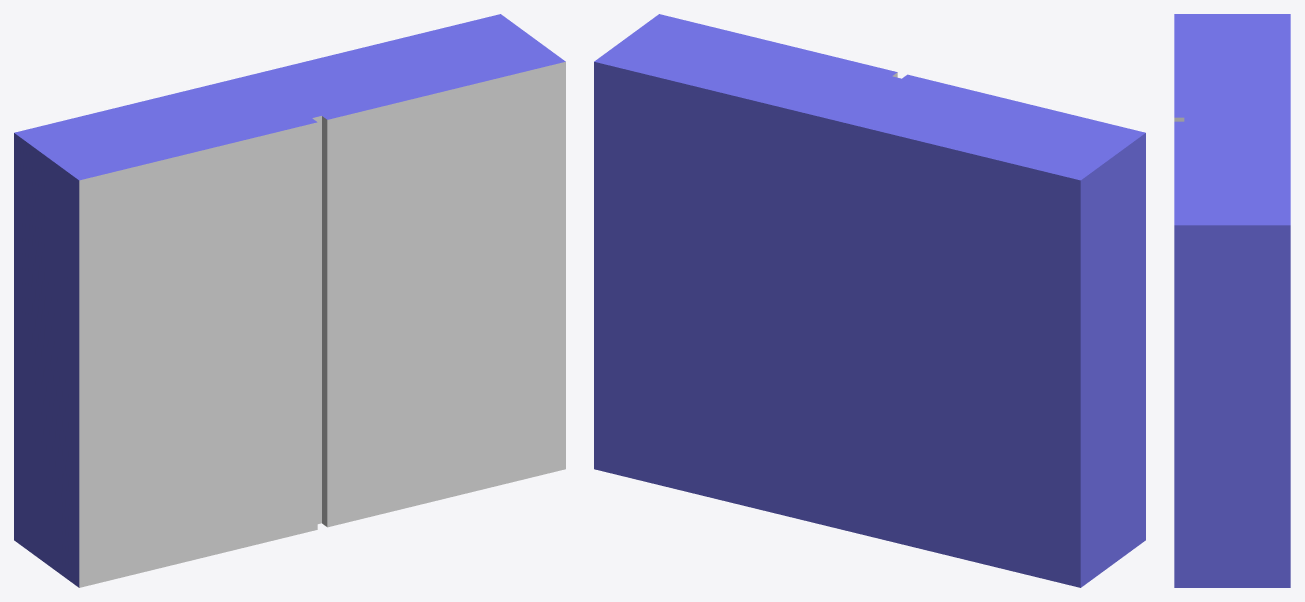
The model's file is elec.armoire.9'.glb.
3 views of the same model, side by side, from view 1: azimuth 30°, elevation 25°; view 2: azimuth 150°, elevation 25°; view 3: azimuth 270°, elevation 25° (orthographic). The views are drawn at different scales.
Parts seen in each view (by area): view 1: imagetostl_mesh1, imagetostl_mesh6, imagetostl_mesh4, imagetostl_mesh3, imagetostl_mesh9, imagetostl_mesh7; view 2: imagetostl_mesh2, imagetostl_mesh4, imagetostl_mesh3; view 3: imagetostl_mesh0, imagetostl_mesh4.
Part boxes in pixels (x1,y1,x2,y2): imagetostl_mesh1: (327,62,565,527); imagetostl_mesh6: (79,122,317,587); imagetostl_mesh4: (14,14,565,180); imagetostl_mesh3: (14,133,79,587); imagetostl_mesh9: (322,116,327,526); imagetostl_mesh7: (312,116,321,523); imagetostl_mesh2: (594,62,1080,587); imagetostl_mesh4: (594,14,1145,180); imagetostl_mesh3: (1080,133,1145,587); imagetostl_mesh0: (1174,225,1290,587); imagetostl_mesh4: (1174,14,1290,225).
Size of the model in its own units: 1.97 by 1.57 by 0.4567.
